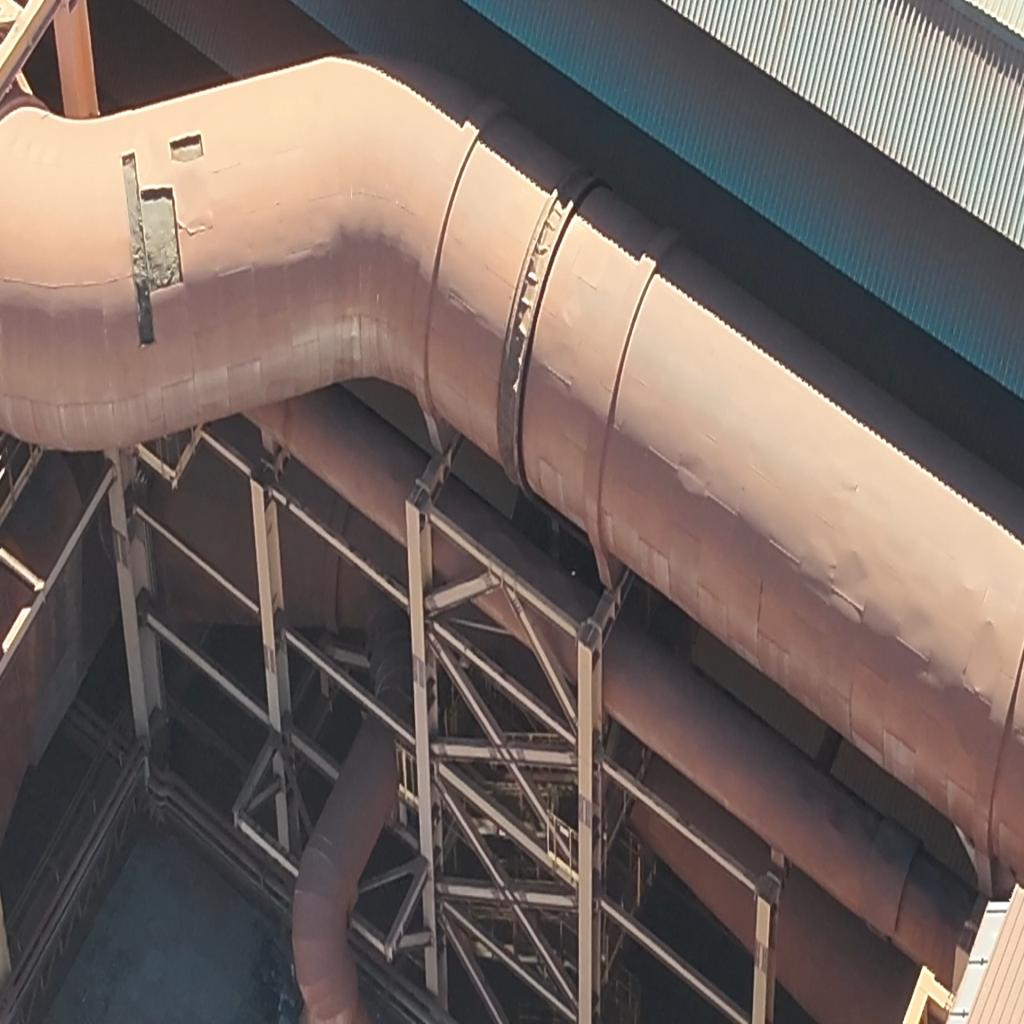Failures: (116, 146, 182, 342), (164, 120, 209, 166)
